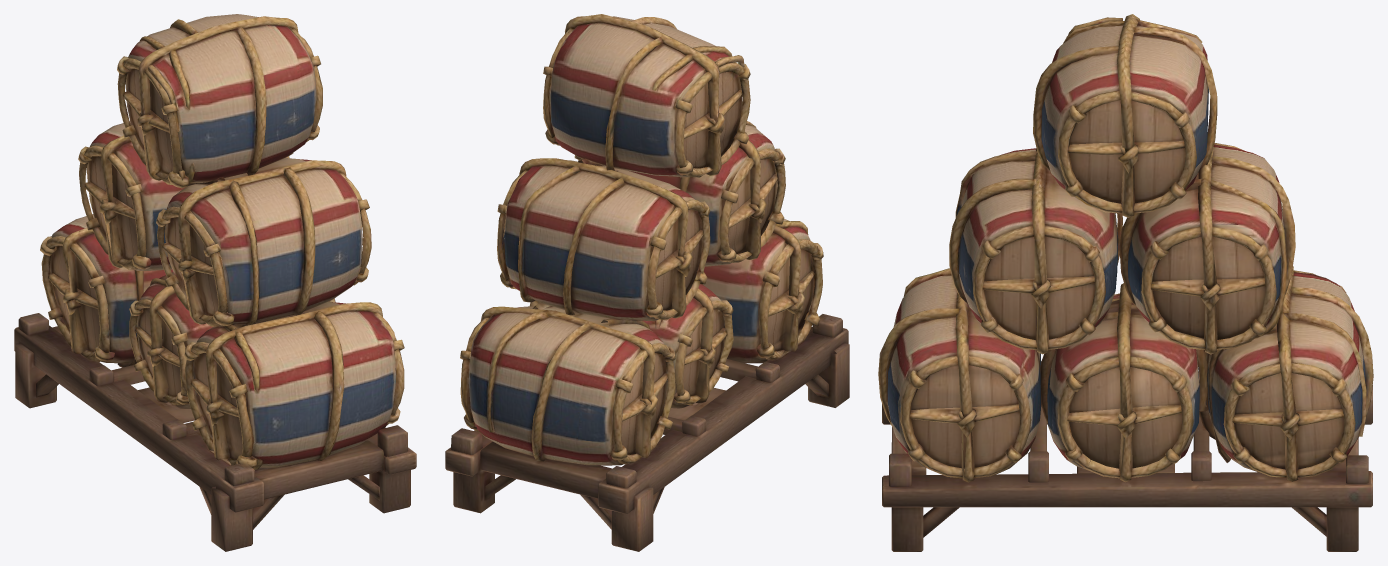
Rendered from sake_barrels.glb.
3 renders of one model, left to right at view 1: azimuth 30°, elevation 25°; view 2: azimuth 150°, elevation 25°; view 3: azimuth 270°, elevation 25°, orthographic. The views are drawn at different scales.
Visible parts, largest first — view 1: tripo_node_b996cf9e-e163-46ea-baaa-85672ca09d40; view 2: tripo_node_b996cf9e-e163-46ea-baaa-85672ca09d40; view 3: tripo_node_b996cf9e-e163-46ea-baaa-85672ca09d40.
Part boxes in pixels (bbox=[...]): tripo_node_b996cf9e-e163-46ea-baaa-85672ca09d40: bbox=[14, 14, 416, 551]; tripo_node_b996cf9e-e163-46ea-baaa-85672ca09d40: bbox=[445, 14, 849, 551]; tripo_node_b996cf9e-e163-46ea-baaa-85672ca09d40: bbox=[878, 14, 1373, 551].
Size of the model in its own units: 0.4858 by 0.9995 by 0.9487.
Materials: 1 (1 with a texture image).
